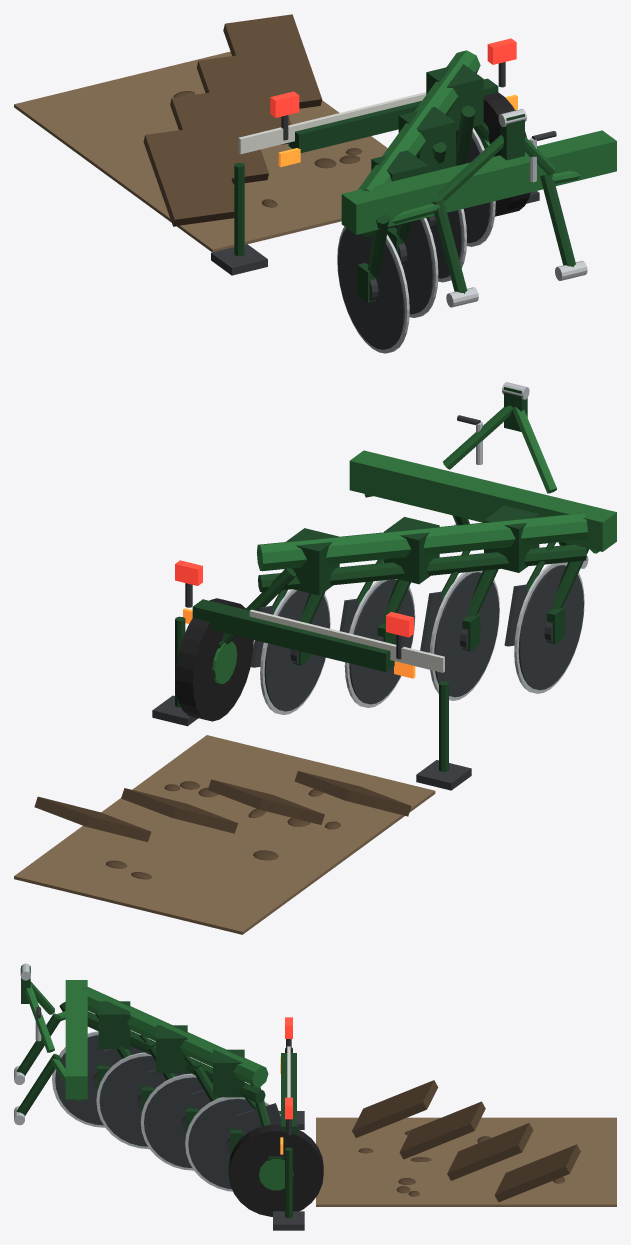
File: disc_plow.glb
3 renders of one model, top to bottom at view 1: azimuth 30°, elevation 25°; view 2: azimuth 150°, elevation 25°; view 3: azimuth 270°, elevation 25°, orthographic. The views are drawn at different scales.
Visible parts, largest first — view 1: DiscProps, DiscPlowBody, DiscA, DiscB, FurrowWheel, DiscD, DiscC; view 2: DiscPlowBody, DiscProps, FurrowWheel, DiscA, DiscB, DiscD, DiscC; view 3: DiscProps, DiscPlowBody, FurrowWheel, DiscD, DiscC, DiscB, DiscA.
Boxes of the visible parts, box(x1,y1,x2,y2) form: DiscProps: box(14, 14, 387, 252); DiscPlowBody: box(211, 38, 616, 307); DiscA: box(337, 226, 409, 353); DiscB: box(388, 218, 438, 317); FurrowWheel: box(477, 92, 530, 216); DiscD: box(456, 128, 495, 246); DiscC: box(427, 209, 466, 282); DiscPlowBody: box(152, 382, 616, 790); DiscProps: box(14, 735, 435, 934); FurrowWheel: box(175, 598, 253, 721); DiscA: box(514, 562, 584, 693); DiscB: box(429, 570, 499, 700); DiscD: box(260, 589, 330, 714); DiscC: box(344, 579, 415, 707); DiscProps: box(316, 1080, 616, 1206); DiscPlowBody: box(14, 963, 304, 1230); FurrowWheel: box(228, 1124, 323, 1216); DiscD: box(185, 1097, 280, 1191); DiscC: box(140, 1073, 212, 1170); DiscB: box(96, 1052, 155, 1149); DiscA: box(52, 1031, 108, 1127).
Size of the model in its own units: 1.77 by 1.34 by 3.81.
